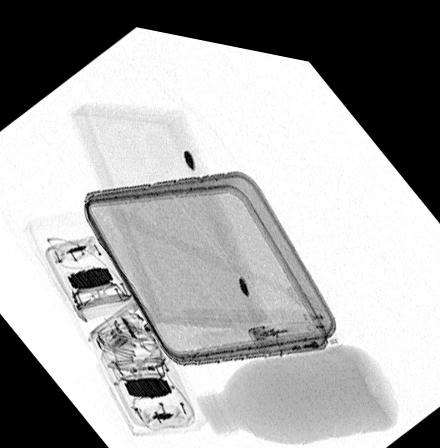Lighter: (247, 305, 330, 345)
